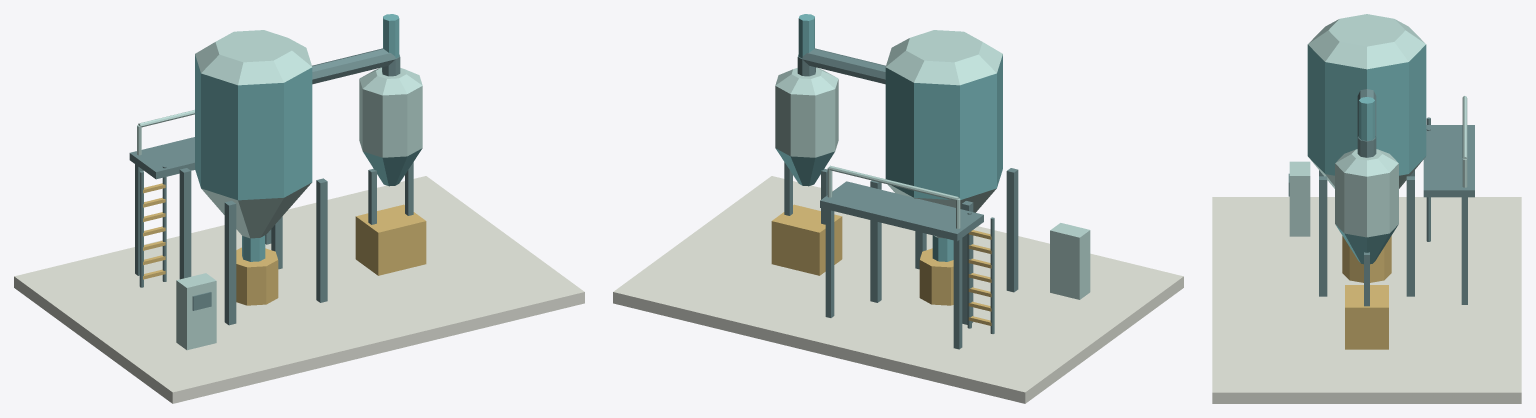
File: jovey-styled.glb
3 views of the same model, side by side, from view 1: azimuth 30°, elevation 25°; view 2: azimuth 150°, elevation 25°; view 3: azimuth 270°, elevation 25° (orthographic). The views are drawn at different scales.
Parts seen in each view (by area): view 1: concept plinth, drying chamber, faceted chamber cap, collection trolley, cyclone body, control cabinet, tapered hopper, sealed collection bin, service platform, support column, transfer duct, support column.002 (+7 smaller); view 2: concept plinth, drying chamber, faceted chamber cap, service platform, cyclone body, collection trolley, control cabinet, sealed collection bin, support column, transfer duct, cyclone cap, platform leg (+9 smaller); view 3: concept plinth, drying chamber, faceted chamber cap, cyclone body, service platform, collection trolley, control cabinet, sealed collection bin, cyclone cap, support column.002, support column.003, cyclone cone (+6 smaller).
Boxes of the visible parts, <box> form: concept plinth: <box>14,176,584,403</box>; drying chamber: <box>195,54,312,200</box>; faceted chamber cap: <box>195,30,312,85</box>; collection trolley: <box>355,204,426,275</box>; cyclone body: <box>359,79,422,157</box>; control cabinet: <box>176,273,216,350</box>; tapered hopper: <box>201,182,311,238</box>; sealed collection bin: <box>236,247,278,305</box>; service platform: <box>129,137,195,179</box>; support column: <box>224,201,236,325</box>; transfer duct: <box>312,48,395,84</box>; support column.002: <box>316,178,327,302</box>; concept plinth: <box>613,176,1183,403</box>; drying chamber: <box>885,54,1002,199</box>; faceted chamber cap: <box>885,30,1002,85</box>; service platform: <box>820,181,983,241</box>; cyclone body: <box>775,79,838,157</box>; collection trolley: <box>771,204,842,275</box>; control cabinet: <box>1050,223,1090,299</box>; sealed collection bin: <box>919,248,953,305</box>; support column: <box>1006,168,1018,292</box>; transfer duct: <box>802,48,885,84</box>; cyclone cap: <box>775,67,838,95</box>; platform leg: <box>953,238,962,349</box>; concept plinth: <box>1212,197,1521,403</box>; drying chamber: <box>1307,44,1426,175</box>; faceted chamber cap: <box>1308,14,1425,69</box>; cyclone body: <box>1335,163,1398,237</box>; service platform: <box>1423,125,1474,197</box>; collection trolley: <box>1345,285,1388,349</box>; control cabinet: <box>1289,161,1310,236</box>; sealed collection bin: <box>1342,236,1391,282</box>; cyclone cap: <box>1335,149,1398,176</box>; support column.002: <box>1319,176,1327,296</box>; support column.003: <box>1406,176,1414,296</box>; cyclone cone: <box>1335,224,1398,264</box>.
Size of the model in its own units: 9 by 5.44 by 6.
